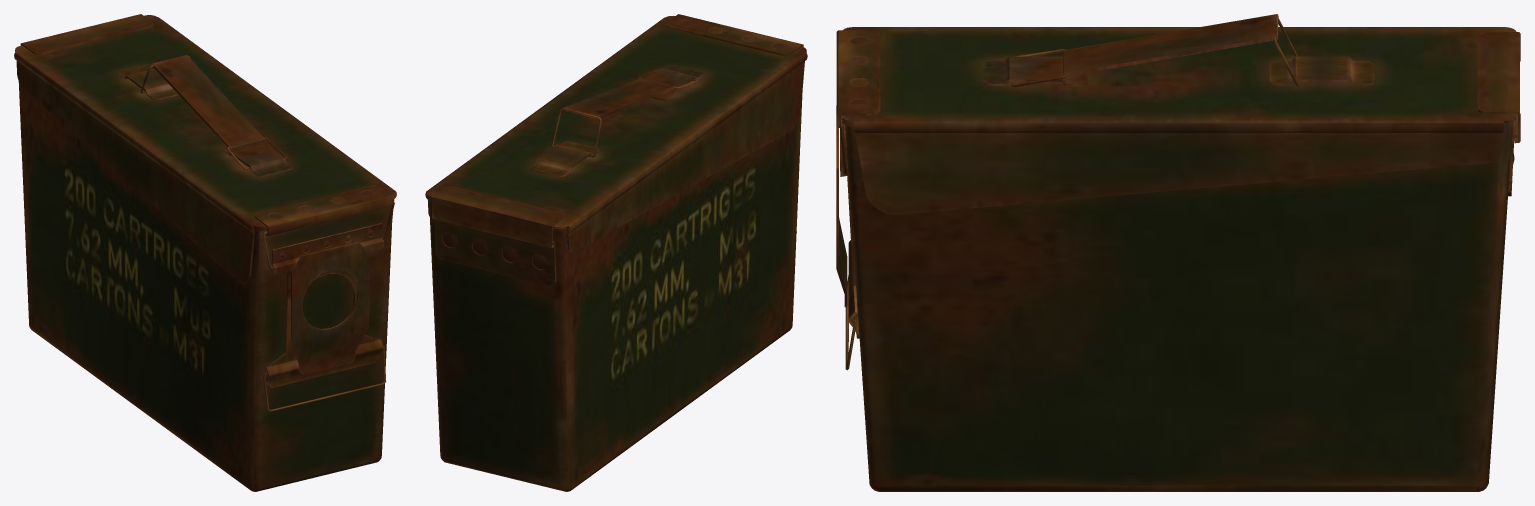
Rendered from ammo_box.glb.
3 renders of one model, left to right at view 1: azimuth 30°, elevation 25°; view 2: azimuth 150°, elevation 25°; view 3: azimuth 270°, elevation 25°, orthographic. The views are drawn at different scales.
Visible parts, largest first — view 1: ammo_box; view 2: ammo_box; view 3: ammo_box.
Boxes of the visible parts, x1,y1,x2,y2 form: ammo_box: (14, 14, 396, 491); ammo_box: (425, 14, 807, 491); ammo_box: (836, 14, 1520, 491).
Bounding box in the file's own units: 0.0866 × 0.1774 × 0.2578.
1 material, 1 textured.
